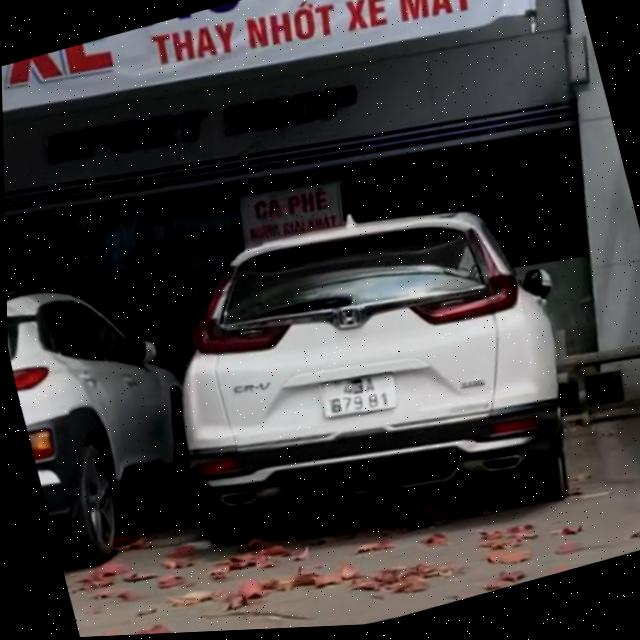car: (140, 160, 606, 605), (6, 249, 227, 579)
plate: (307, 357, 411, 436)
